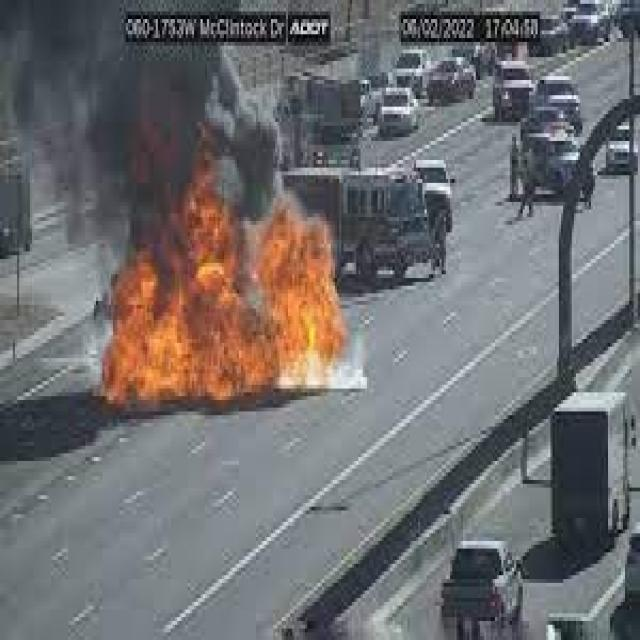fire: (96, 202, 367, 392)
smoke: (105, 57, 290, 202), (2, 8, 124, 202)
